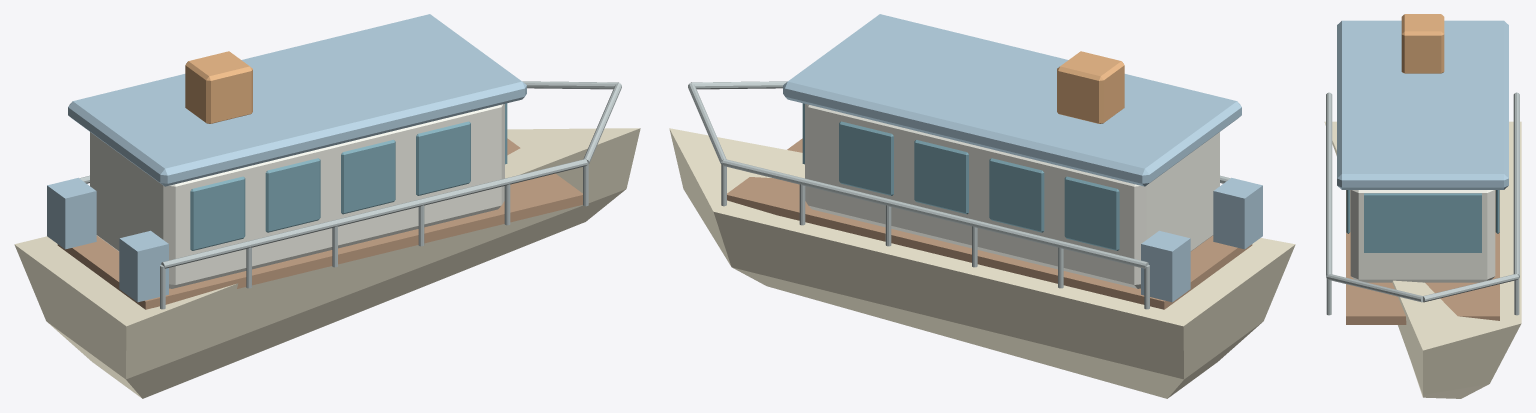
The model's file is boat-ferry.glb.
3 renders of one model, left to right at view 1: azimuth 30°, elevation 25°; view 2: azimuth 150°, elevation 25°; view 3: azimuth 270°, elevation 25°, orthographic. The views are drawn at different scales.
Visible parts, largest first — view 1: boat-ferry_wood, boat-ferry_cream; view 2: boat-ferry_wood, boat-ferry_cream; view 3: boat-ferry_wood, boat-ferry_cream.
Boxes of the visible parts, <box> form: boat-ferry_wood: <box>47,14,621,309</box>; boat-ferry_cream: <box>14,128,640,398</box>; boat-ferry_wood: <box>688,14,1262,309</box>; boat-ferry_cream: <box>669,128,1295,398</box>; boat-ferry_wood: <box>1326,14,1519,324</box>; boat-ferry_cream: <box>1324,121,1521,398</box>.
Size of the model in its own units: 3.64 by 1.78 by 1.24.
2 materials, 2 textured.
